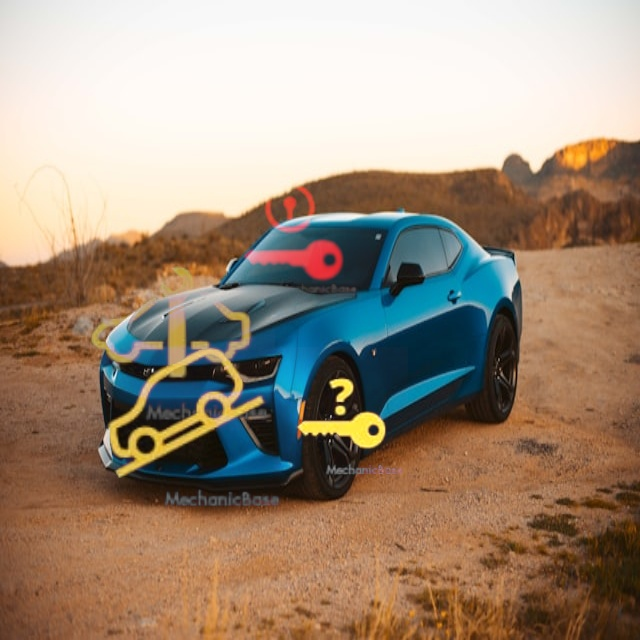symbol: (64, 219, 275, 430), (86, 315, 287, 516), (225, 163, 362, 300), (274, 347, 408, 481)
